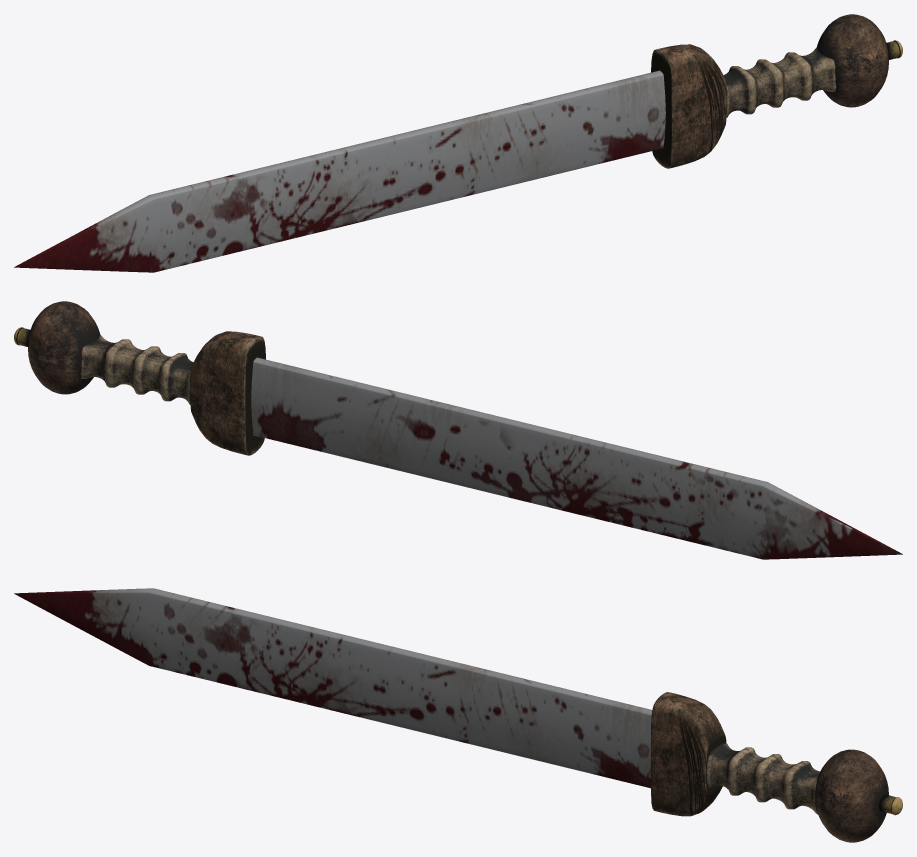
Rendered from sword.glb.
3 renders of one model, top to bottom at view 1: azimuth 30°, elevation 25°; view 2: azimuth 150°, elevation 25°; view 3: azimuth 330°, elevation 25°, orthographic.
Visible parts, largest first — view 1: Lamina, Cabo, Empunhadura, pomao; view 2: Lamina, Cabo, Empunhadura, pomao; view 3: Lamina, Cabo, pomao, Empunhadura.
Boxes of the visible parts, x1,y1,x2,y2 form: Lamina: [14, 70, 665, 272]; Cabo: [651, 44, 726, 168]; Empunhadura: [723, 47, 836, 117]; pomao: [816, 14, 888, 107]; Lamina: [251, 357, 902, 559]; Cabo: [190, 331, 265, 455]; Empunhadura: [80, 334, 193, 404]; pomao: [28, 301, 100, 394]; Lamina: [14, 588, 652, 788]; Cabo: [650, 692, 726, 816]; pomao: [815, 749, 888, 842]; Empunhadura: [706, 743, 820, 814].
Bounding box in the file's own units: 2 × 0.245 × 0.1403.
5 materials, 5 textured.
